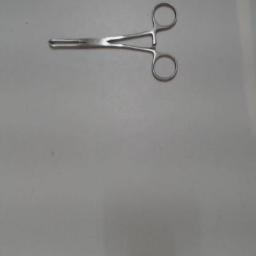Allis Tissue Forceps: (41, 1, 181, 91)
